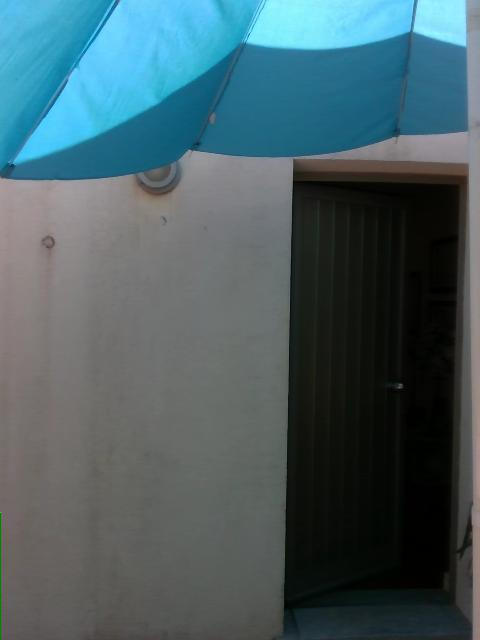semi_door: (284, 154, 466, 605)
